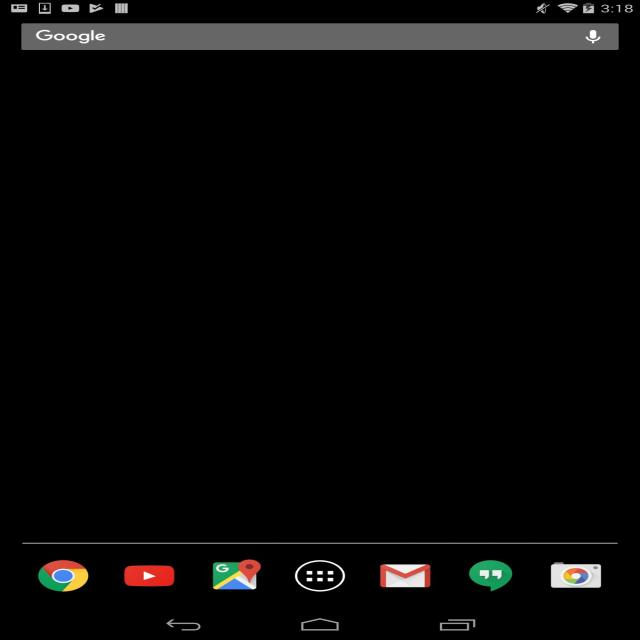button: (545, 560, 606, 594), (36, 559, 90, 595), (208, 559, 262, 593), (296, 558, 348, 592), (468, 559, 515, 595), (376, 562, 434, 591), (125, 562, 176, 588), (580, 23, 614, 48)
field: (21, 22, 619, 49)
label: (34, 28, 109, 44)
